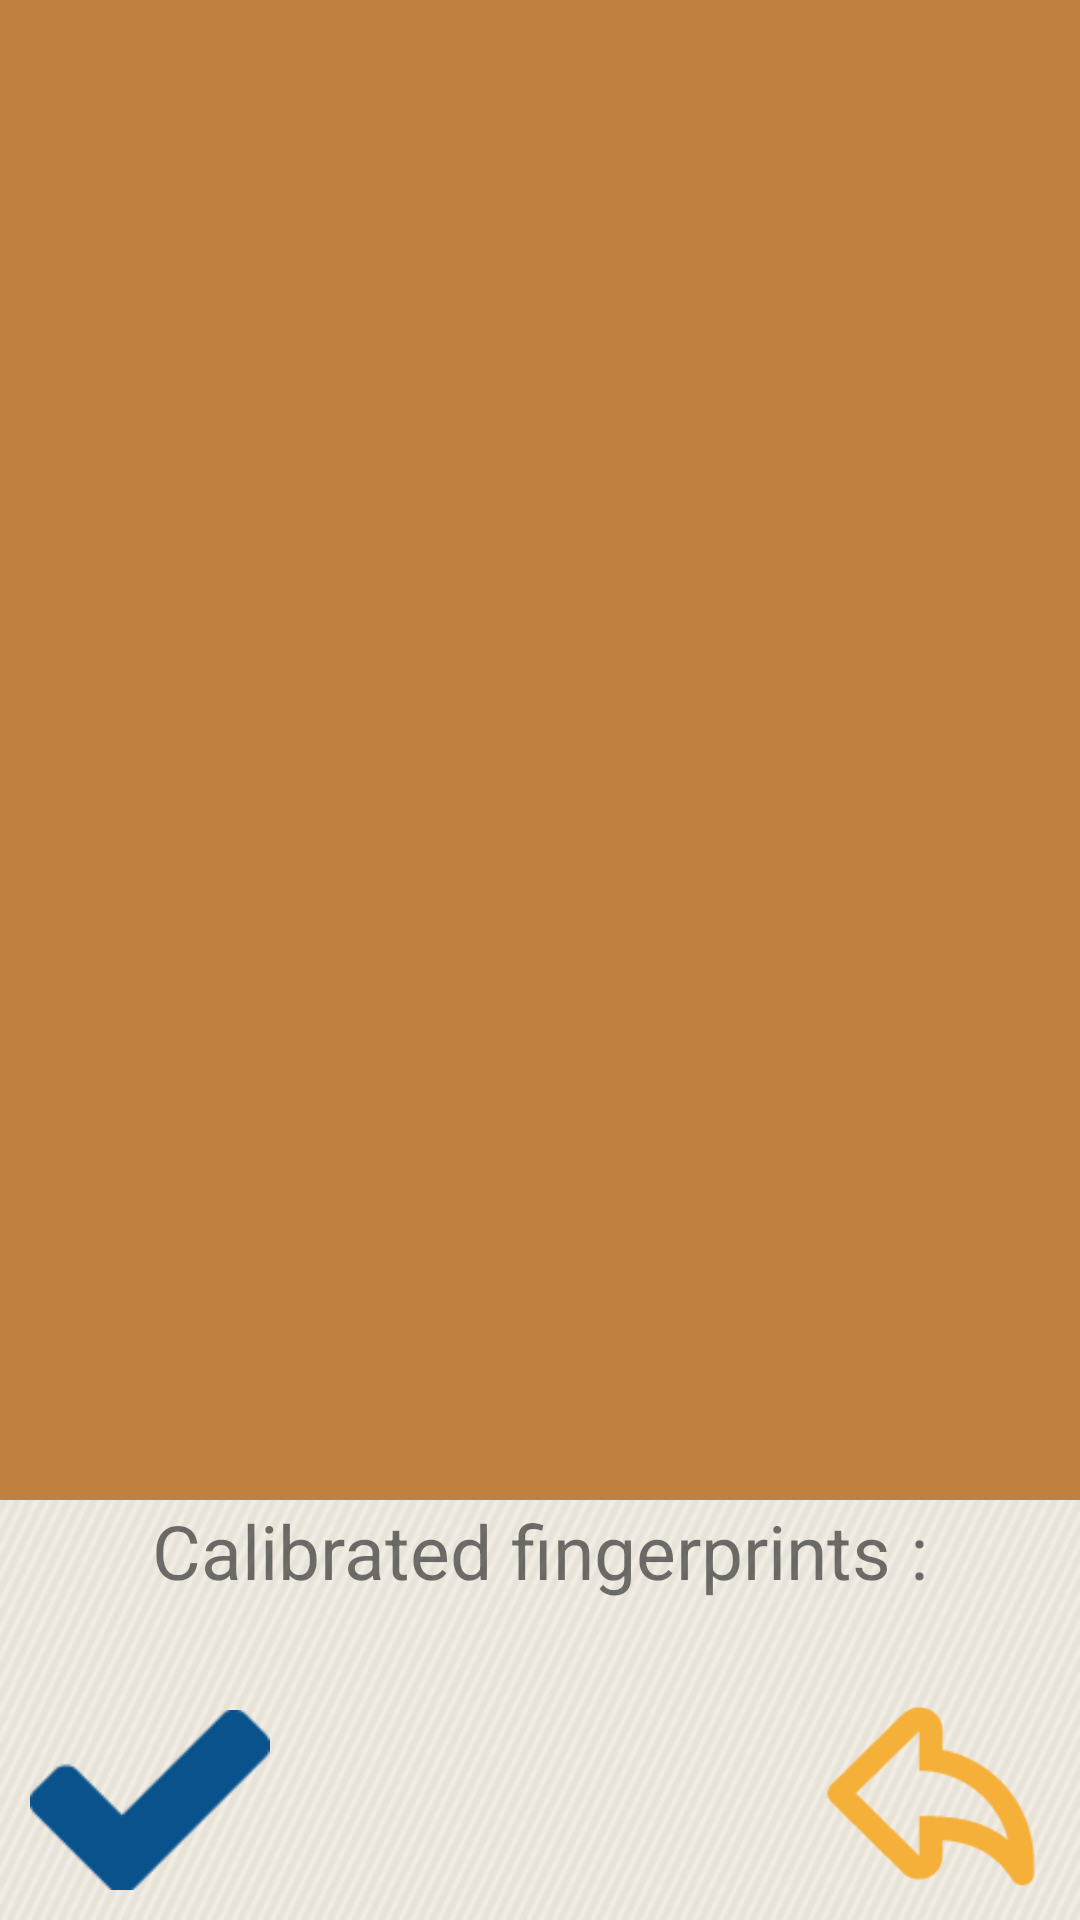

Named icons in this screenshot (1080 × 1920) and their bounding boxes, bbox=[x1, y1, x2, y2]:
back: bbox=[827, 1706, 1035, 1886]
ok mark: bbox=[30, 1710, 270, 1890]
